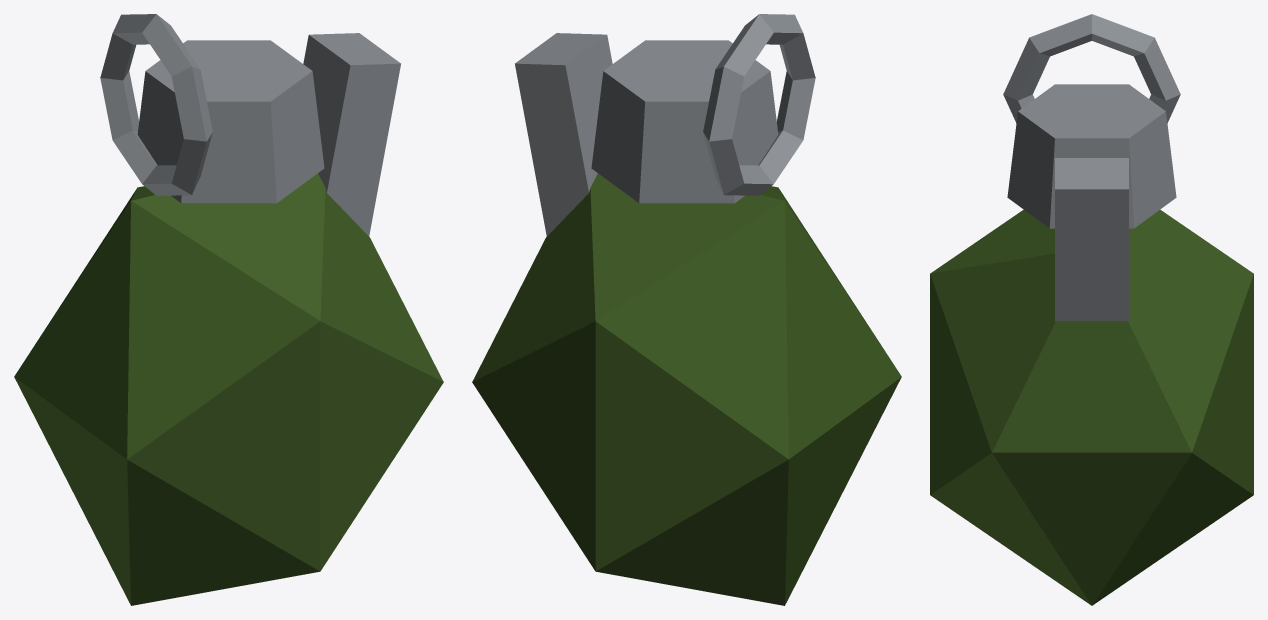
File: weapon_grenade.glb
3 views of the same model, side by side, from view 1: azimuth 30°, elevation 25°; view 2: azimuth 150°, elevation 25°; view 3: azimuth 270°, elevation 25° (orthographic). The views are drawn at different scales.
Parts seen in each view (by area): view 1: grenade; view 2: grenade; view 3: grenade.
Part boxes in pixels (x1=…): grenade: x1=14, y1=14, x2=443, y2=605; grenade: x1=472, y1=14, x2=901, y2=605; grenade: x1=930, y1=14, x2=1253, y2=605.
Bounding box in the file's own units: 1.53 × 2.71 × 1.53.
